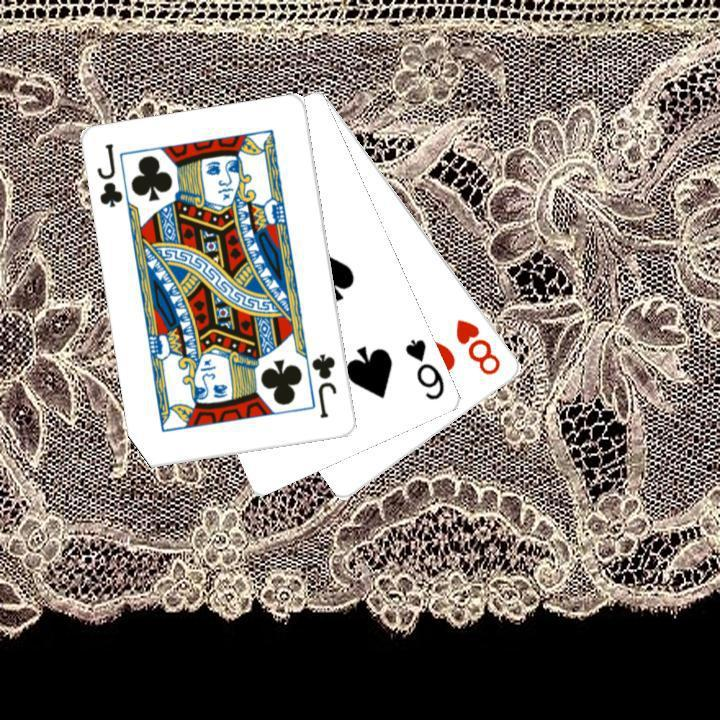6: (401, 335, 447, 403)
8: (451, 314, 504, 378)
J: (93, 140, 126, 210), (308, 350, 340, 421)
